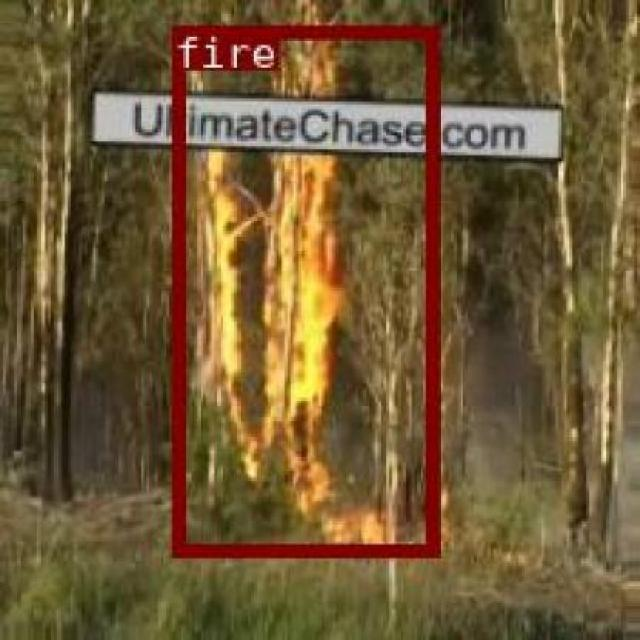Fire: (265, 289, 304, 529)
